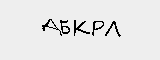А: (53, 20, 76, 48)
Г: (122, 20, 141, 45)
Х: (73, 23, 90, 46)
Щ: (15, 19, 51, 46)
Э: (105, 23, 122, 45)
Ң: (90, 24, 108, 49)
